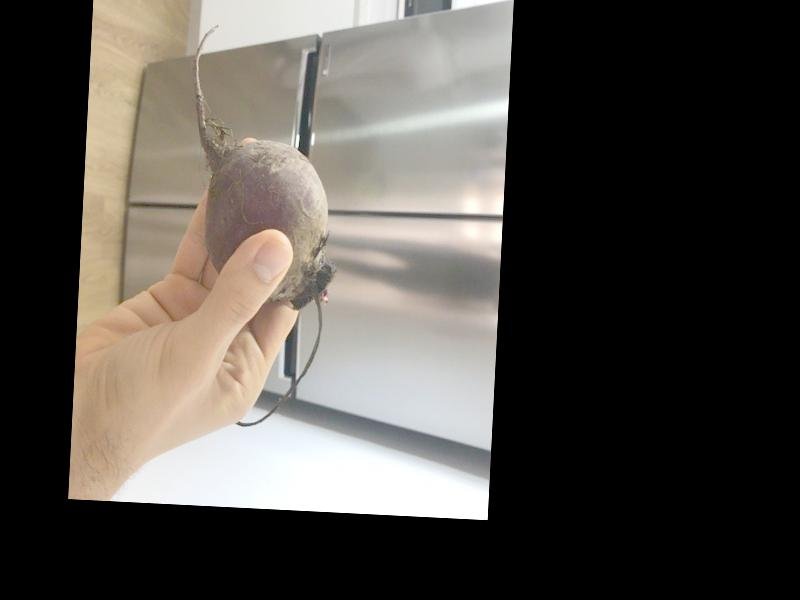Beet: (176, 20, 345, 430)
